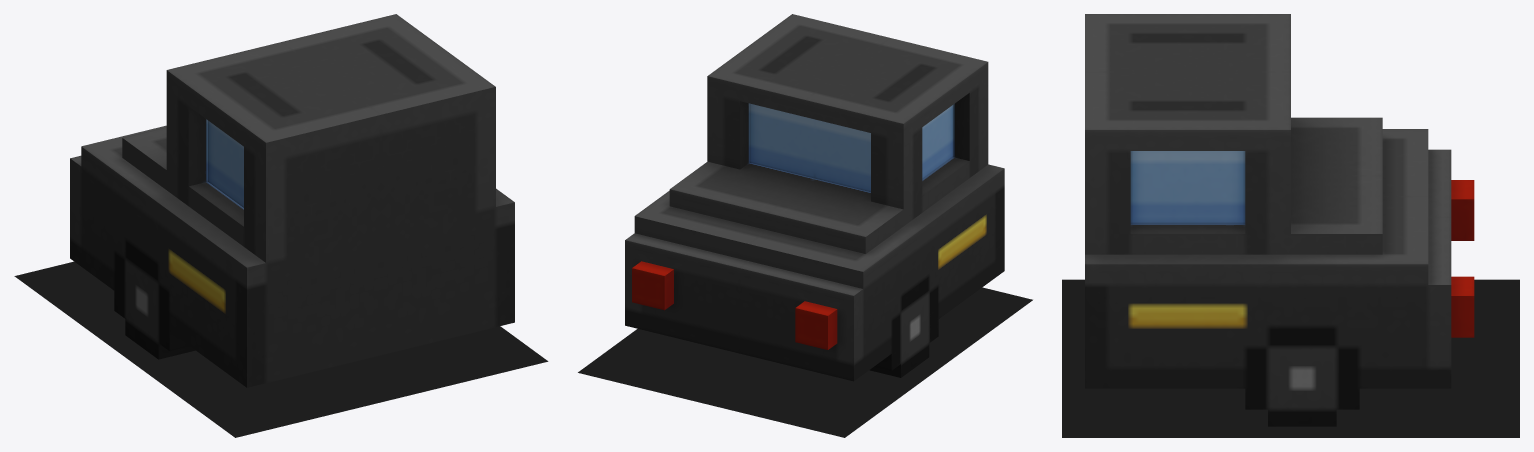
File: limousine_tail.FBX
The picture shows the model from 3 angles, left to right: view 1: azimuth 30°, elevation 25°; view 2: azimuth 150°, elevation 25°; view 3: azimuth 270°, elevation 25°; orthographic projection. The views are drawn at different scales.
Visible parts, largest first — view 1: limousine_tail, limousine_tail_soft_shadow; view 2: limousine_tail, limousine_tail_soft_shadow; view 3: limousine_tail, limousine_tail_soft_shadow.
Boxes of the visible parts, x1,y1,x2,y2 form: limousine_tail: (70, 14, 514, 387); limousine_tail_soft_shadow: (14, 261, 548, 437); limousine_tail: (625, 14, 1004, 381); limousine_tail_soft_shadow: (578, 287, 1032, 437); limousine_tail: (1085, 14, 1474, 426); limousine_tail_soft_shadow: (1062, 279, 1519, 437).
Bounding box in the file's own units: 900 × 770 × 1100.
